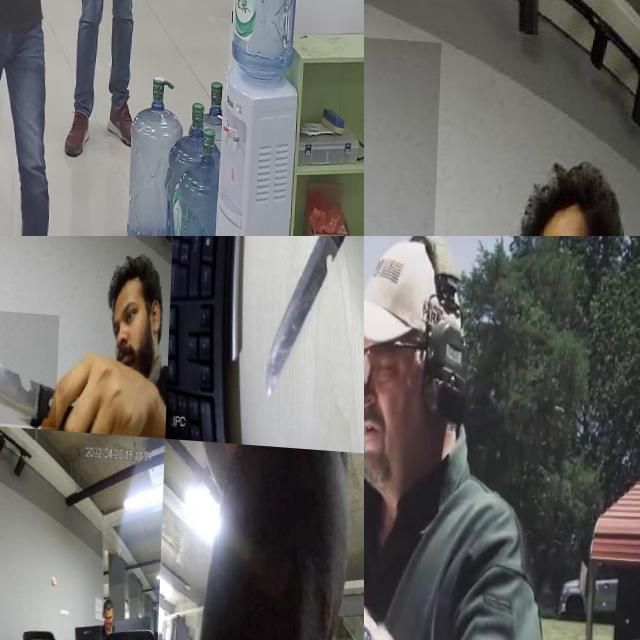-: (364, 26, 452, 236), (260, 236, 364, 397), (0, 304, 65, 424)
gun-knife-thesis - v11 Yolov5 augmented: (364, 395, 419, 589), (0, 0, 25, 32)
